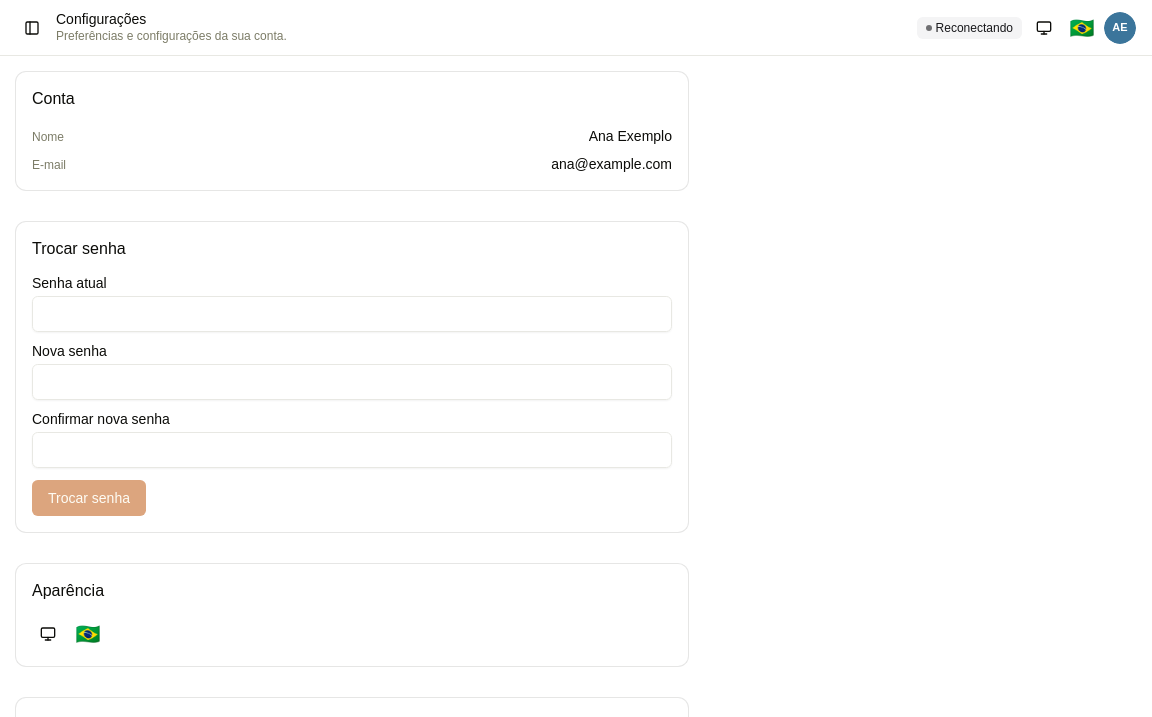
it: settings: change password › maps 400 weak_password to the length message
Expected: the heading "Trocar senha" is shown, [32,240,126,257]
Type "senha-atual-123" into the password field labelled "Senha atual" at (352, 314), box [32,296,672,332]
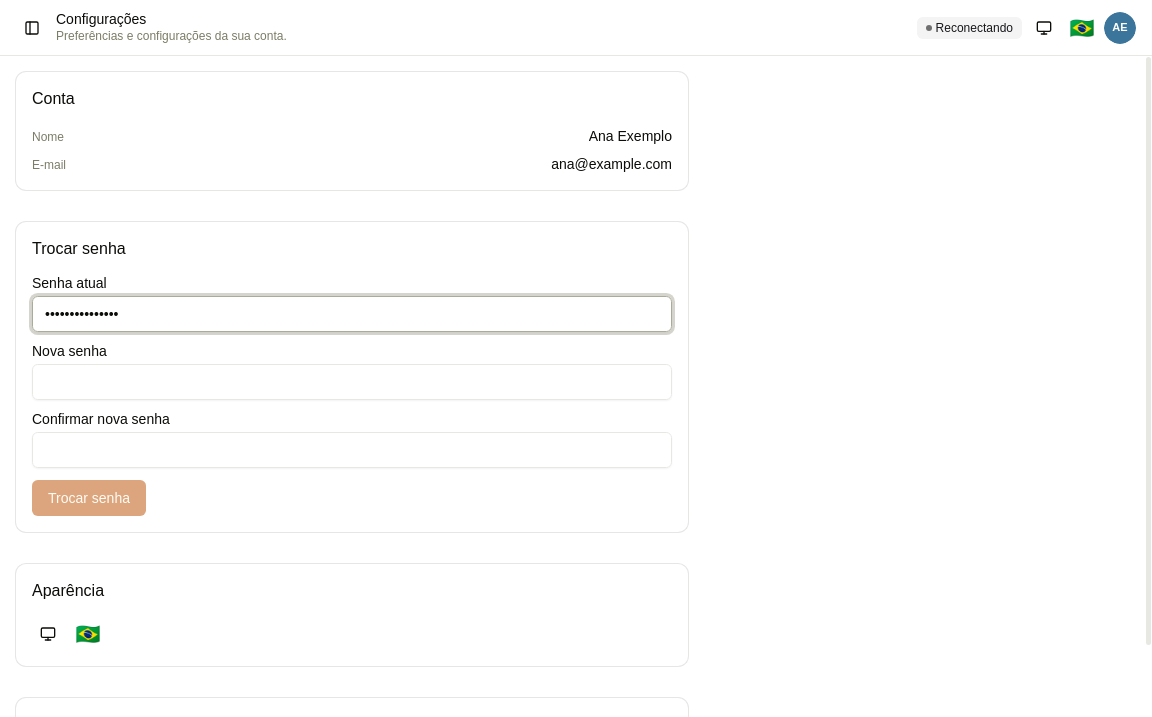
Type "nova-senha-123" into the password field labelled "Nova senha" at (352, 382), box [32,364,672,400]
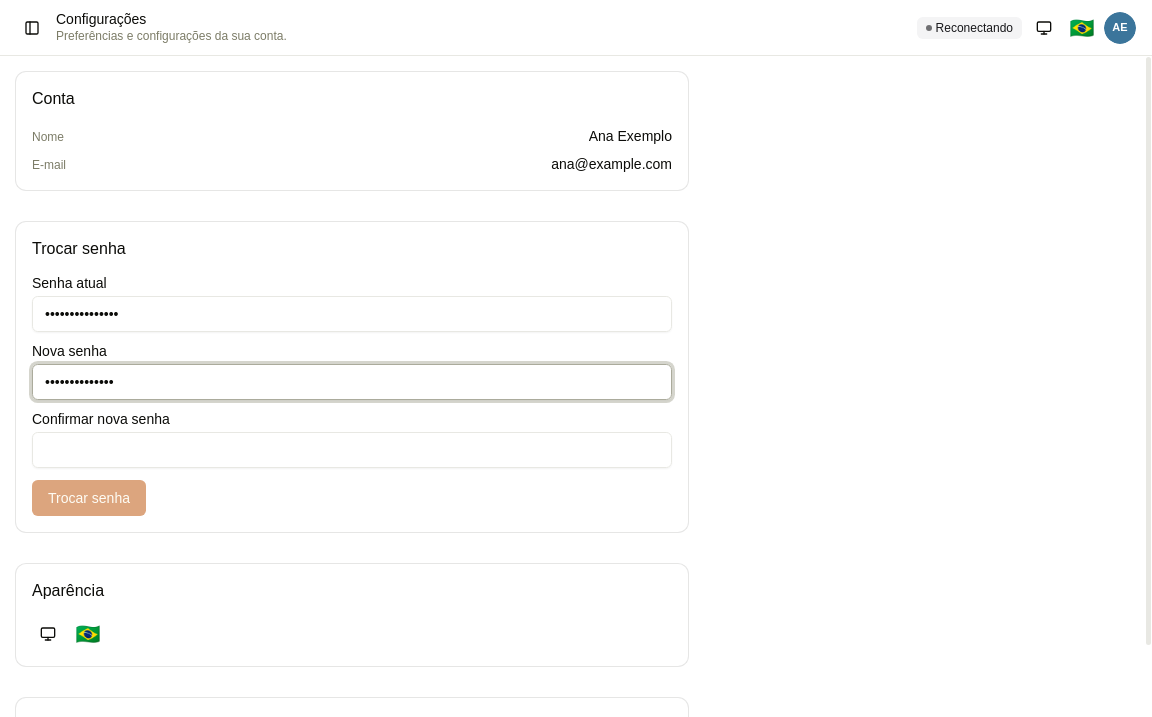
Type "nova-senha-123" into the password field labelled "Confirmar nova senha" at (352, 450), box [32,432,672,468]
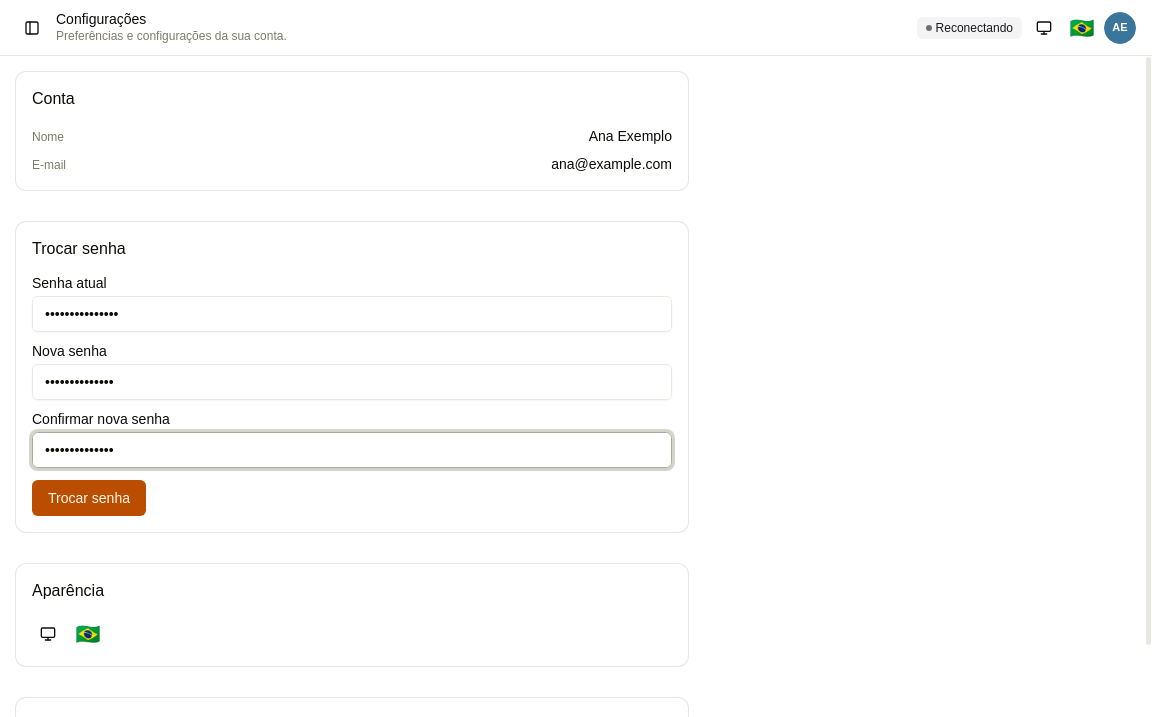
Click the button "Trocar senha" at (89, 498), box [32,480,146,516]
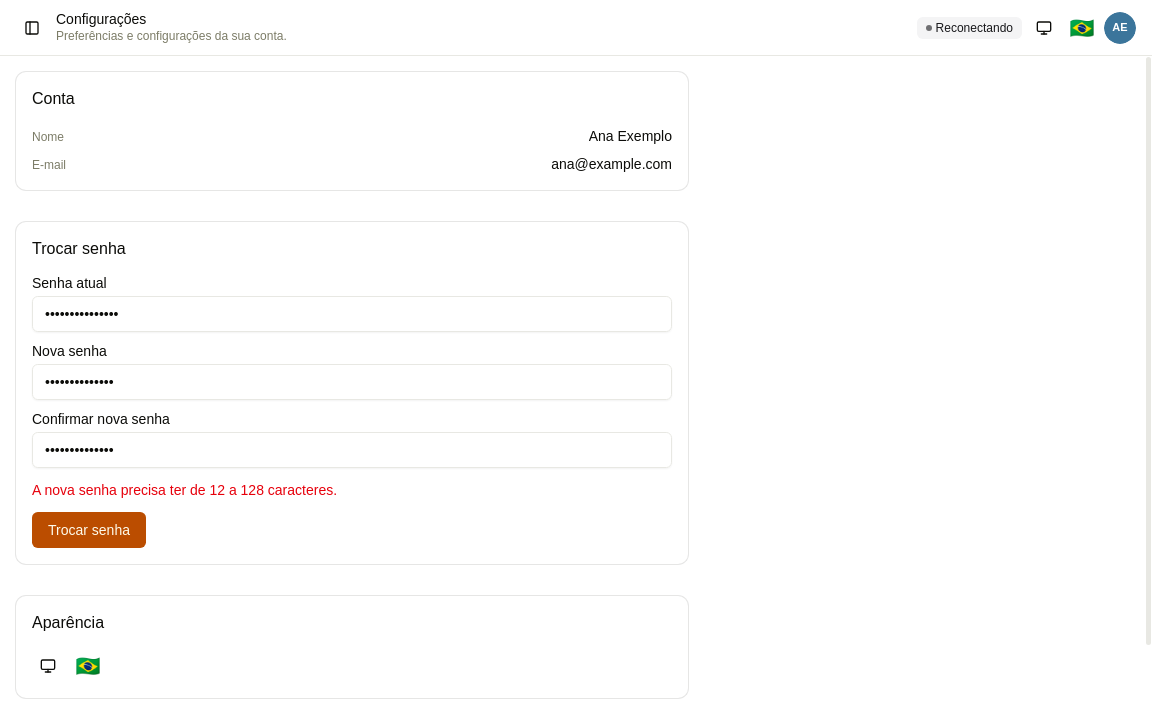
Expected: the message reads "A nova senha precisa ter de 12 a 128 caracteres.", [32,482,337,498]
